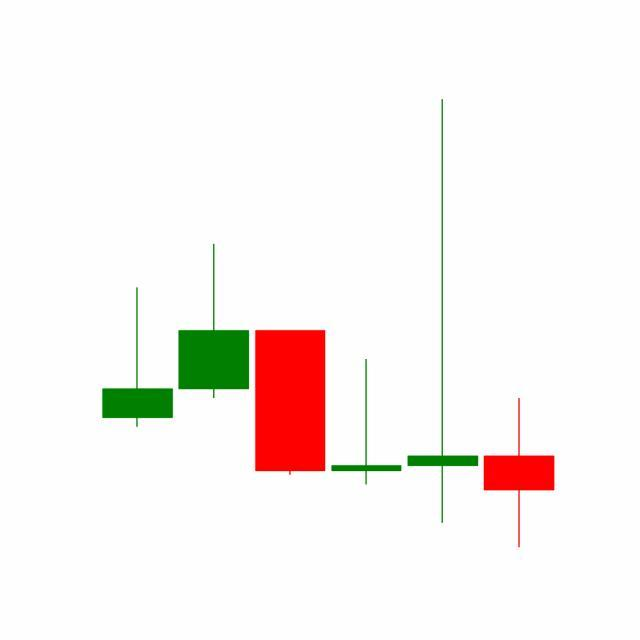Spinning Top: (404, 95, 482, 529)
